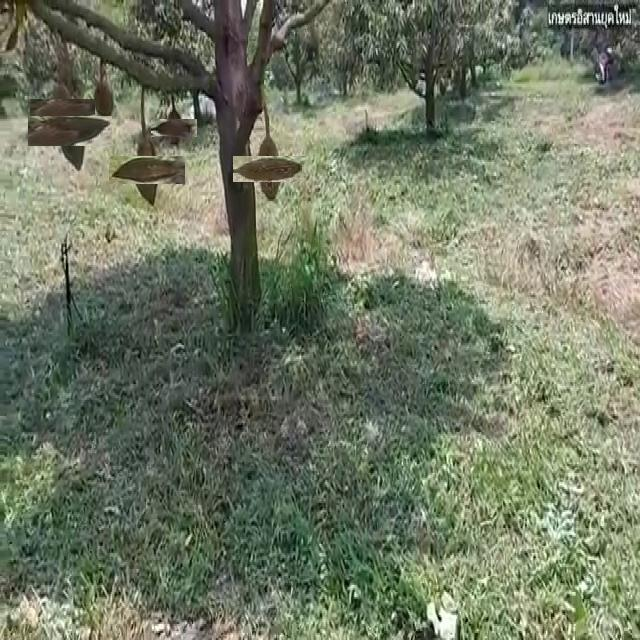durian: (42, 102, 99, 160), (121, 144, 173, 197), (244, 144, 294, 193), (40, 89, 86, 134), (158, 112, 191, 144), (92, 78, 116, 119)
